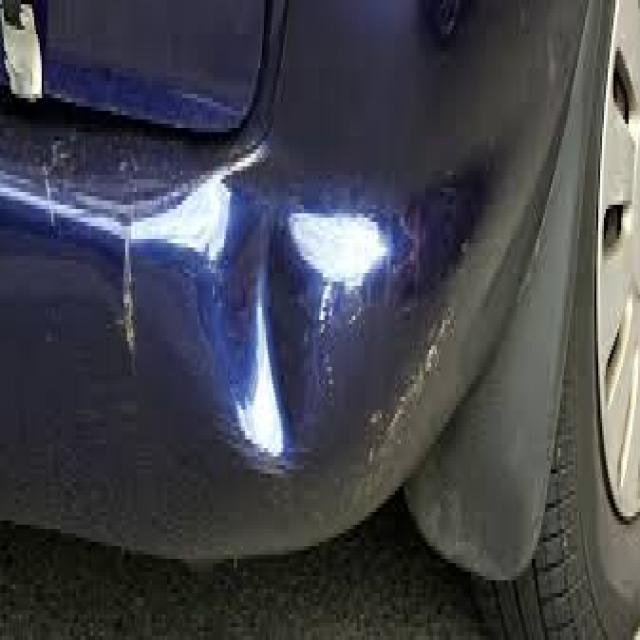minor: (0, 0, 480, 597)
